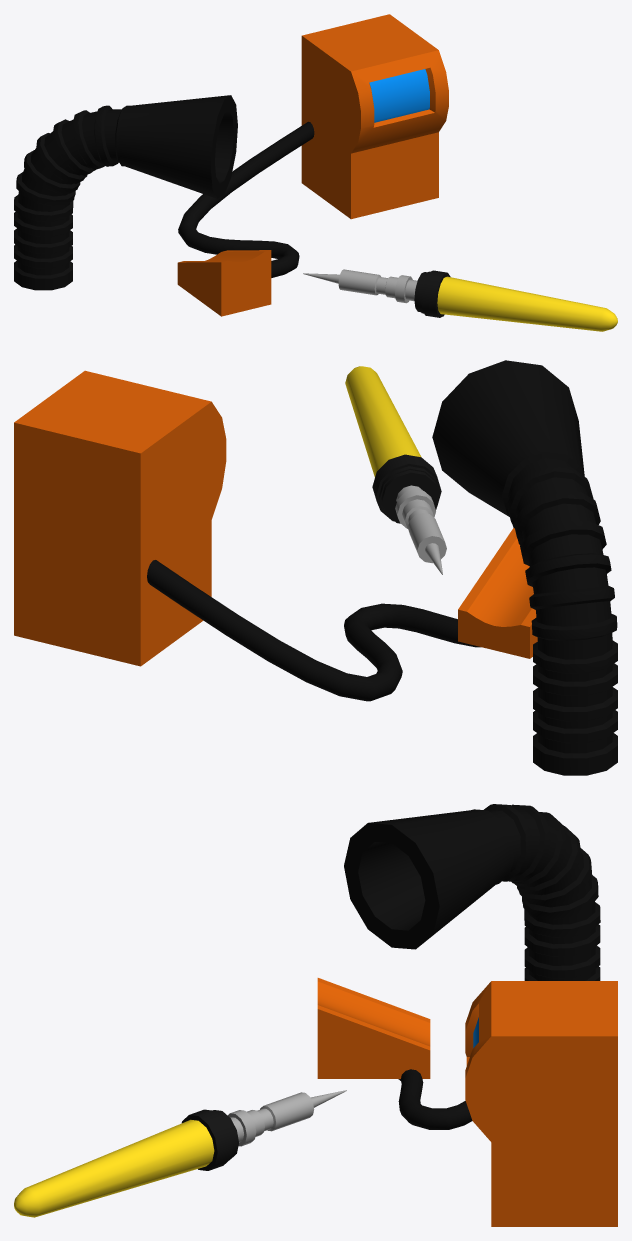
The model's file is Soldering Station.fbx.
3 renders of one model, top to bottom at view 1: azimuth 30°, elevation 25°; view 2: azimuth 150°, elevation 25°; view 3: azimuth 270°, elevation 25°, orthographic. The views are drawn at different scales.
Visible parts, largest first — view 1: Soldering Station, Soldering Gun; view 2: Soldering Station, Soldering Gun; view 3: Soldering Station, Soldering Gun.
Boxes of the visible parts, <box> form: Soldering Station: <box>14,14,448,316</box>; Soldering Gun: <box>303,269,617,331</box>; Soldering Station: <box>14,360,617,775</box>; Soldering Gun: <box>345,366,446,574</box>; Soldering Station: <box>317,804,617,1226</box>; Soldering Gun: <box>14,1090,346,1217</box>.
Size of the model in its own units: 63.19 by 30.56 by 65.19.
